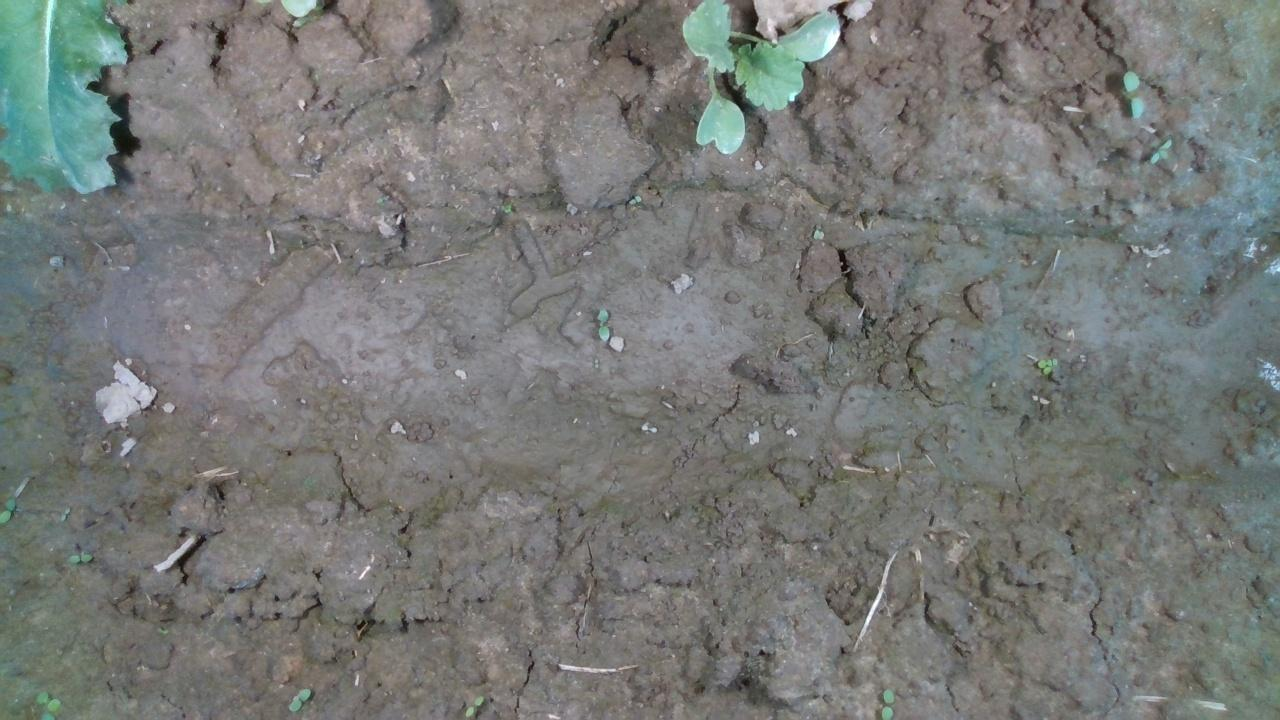weed: (591, 307, 621, 345), (1023, 354, 1070, 377), (1145, 135, 1183, 163)
